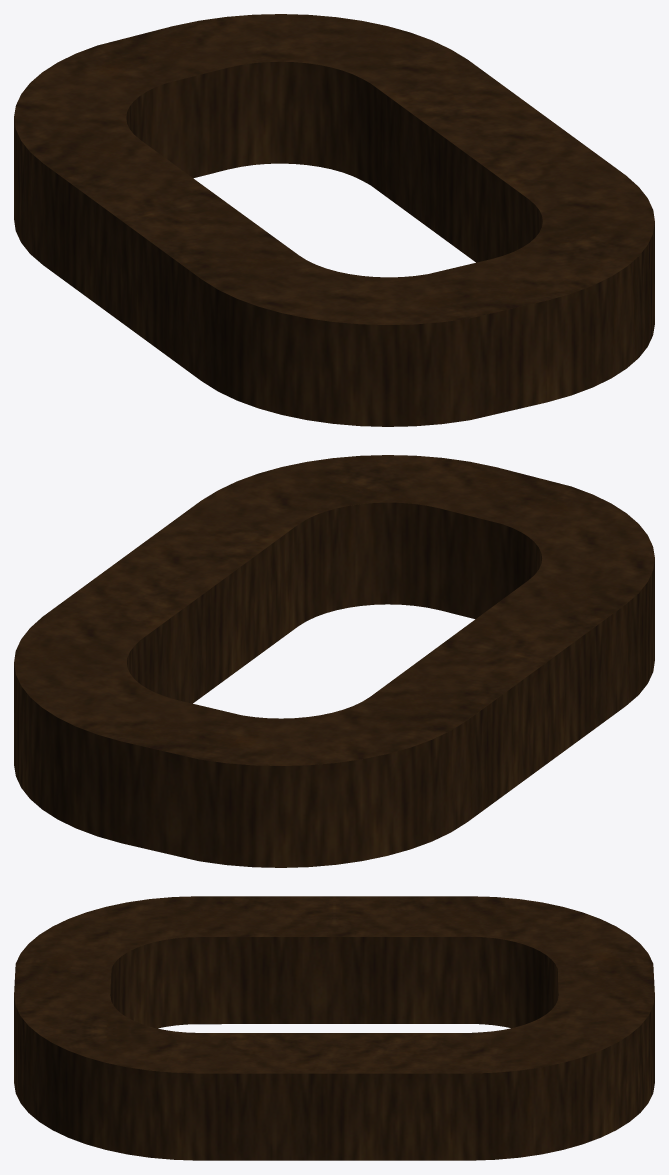
File: LetterO.obj
3 views of the same model, one above another, from view 1: azimuth 30°, elevation 25°; view 2: azimuth 150°, elevation 25°; view 3: azimuth 270°, elevation 25° (orthographic). The views are drawn at different scales.
Parts seen in each view (by area): view 1: LetterO; view 2: LetterO; view 3: LetterO.
Boxes of the visible parts, bbox=[...] form: LetterO: bbox=[14, 14, 654, 426]; LetterO: bbox=[14, 455, 654, 867]; LetterO: bbox=[14, 896, 654, 1160].
Bounding box in the file's own units: 0.6545 × 0.15 × 1.
